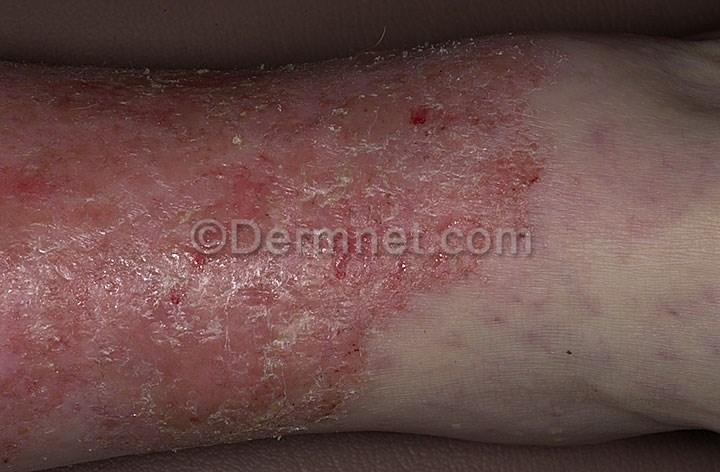Eczema: (74, 83, 508, 225), (35, 281, 385, 418)
